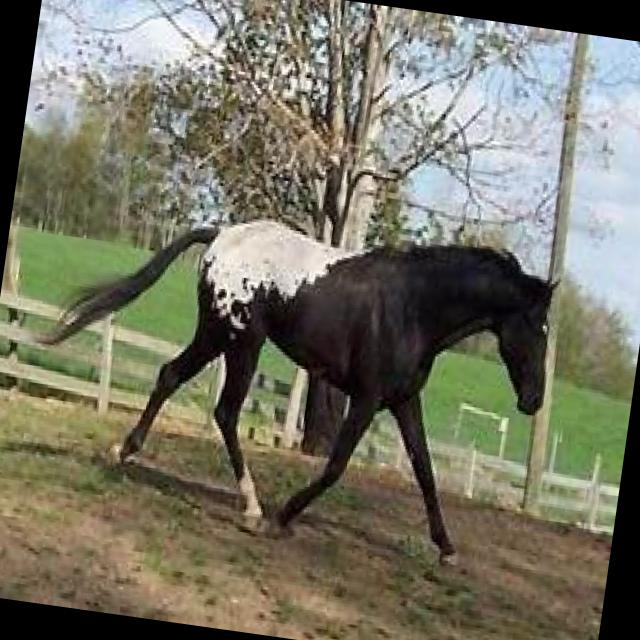animal: (25, 186, 562, 564)
